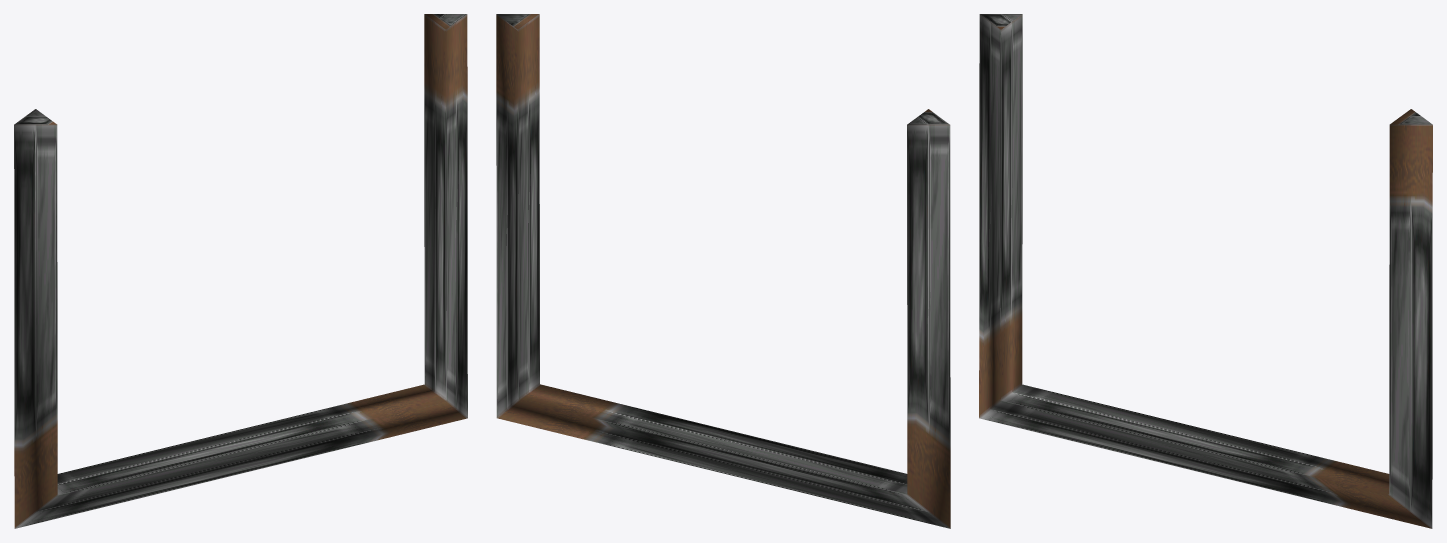
Rendered from INST_SWORDLIGHT_BRKT18M.fbx.
3 renders of one model, left to right at view 1: azimuth 30°, elevation 25°; view 2: azimuth 150°, elevation 25°; view 3: azimuth 330°, elevation 25°, orthographic.
Visible parts, largest first — view 1: INST_SWORDLIGHT_BRKT18M; view 2: INST_SWORDLIGHT_BRKT18M; view 3: INST_SWORDLIGHT_BRKT18M.
Part boxes in pixels (x1,y1,x2,y2): INST_SWORDLIGHT_BRKT18M: (14,14,467,528); INST_SWORDLIGHT_BRKT18M: (496,14,950,528); INST_SWORDLIGHT_BRKT18M: (979,14,1432,528).
Bounding box in the file's own units: 18154 × 15463 × 1529.
Materials: 1 (1 with a texture image).
